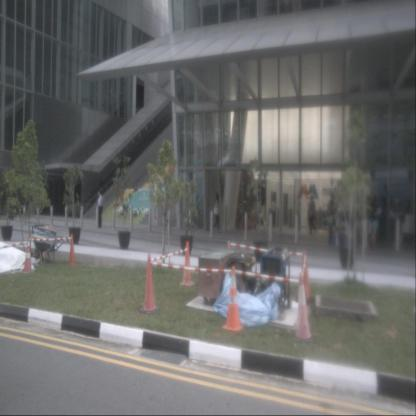cone: (292, 271, 314, 343), (221, 266, 244, 332), (139, 254, 161, 314), (297, 251, 316, 304), (179, 242, 195, 288), (19, 236, 36, 274), (66, 234, 79, 266)
